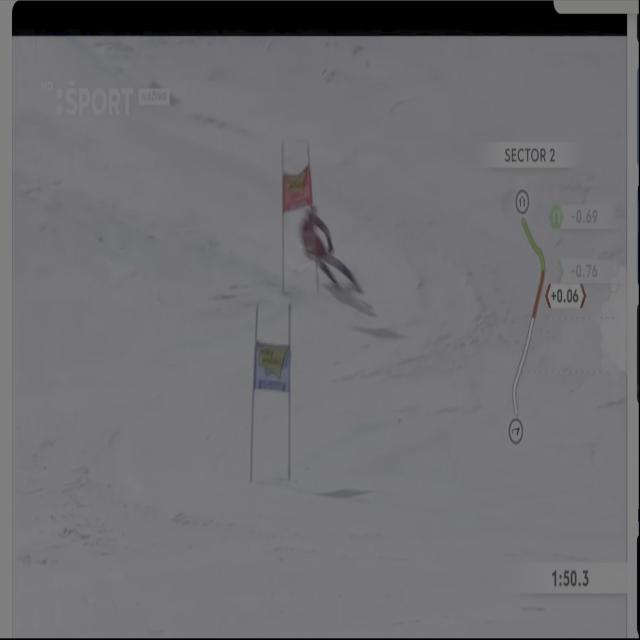gate: (233, 293, 262, 496), (280, 297, 305, 490), (279, 138, 287, 300)
